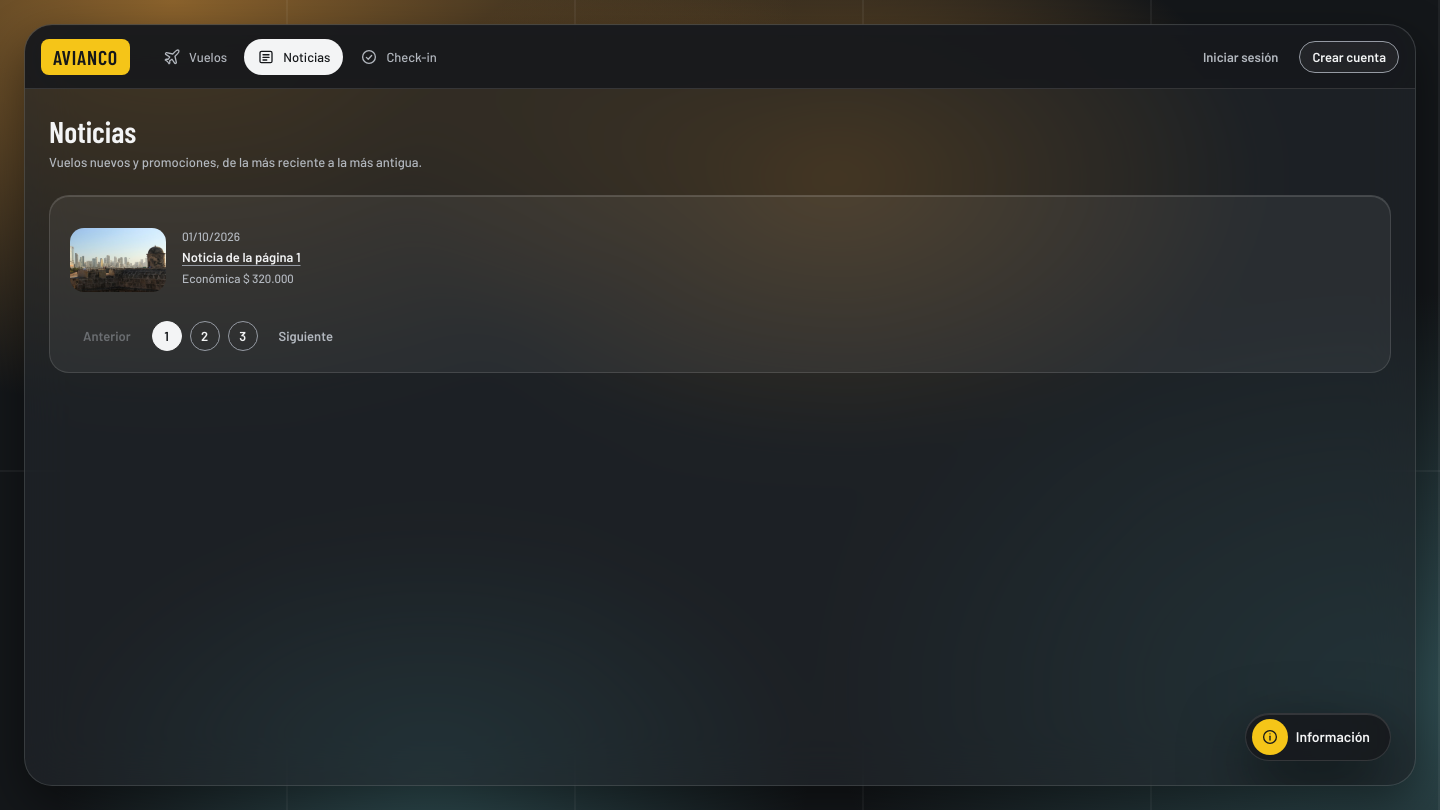
Test: Todas las noticias (HU-19) › pagina con ?pagina= y pide la página elegida al servidor
Expected: the link "Noticia de la página 1" is shown, [182,248,301,266]
Expected: the button "Anterior" is disabled, [70,320,144,352]
What coordinates should you click on to do the following:
click the button "Siguiente"
I would click on:
 (306, 336)
Its box is [266,320,346,352].
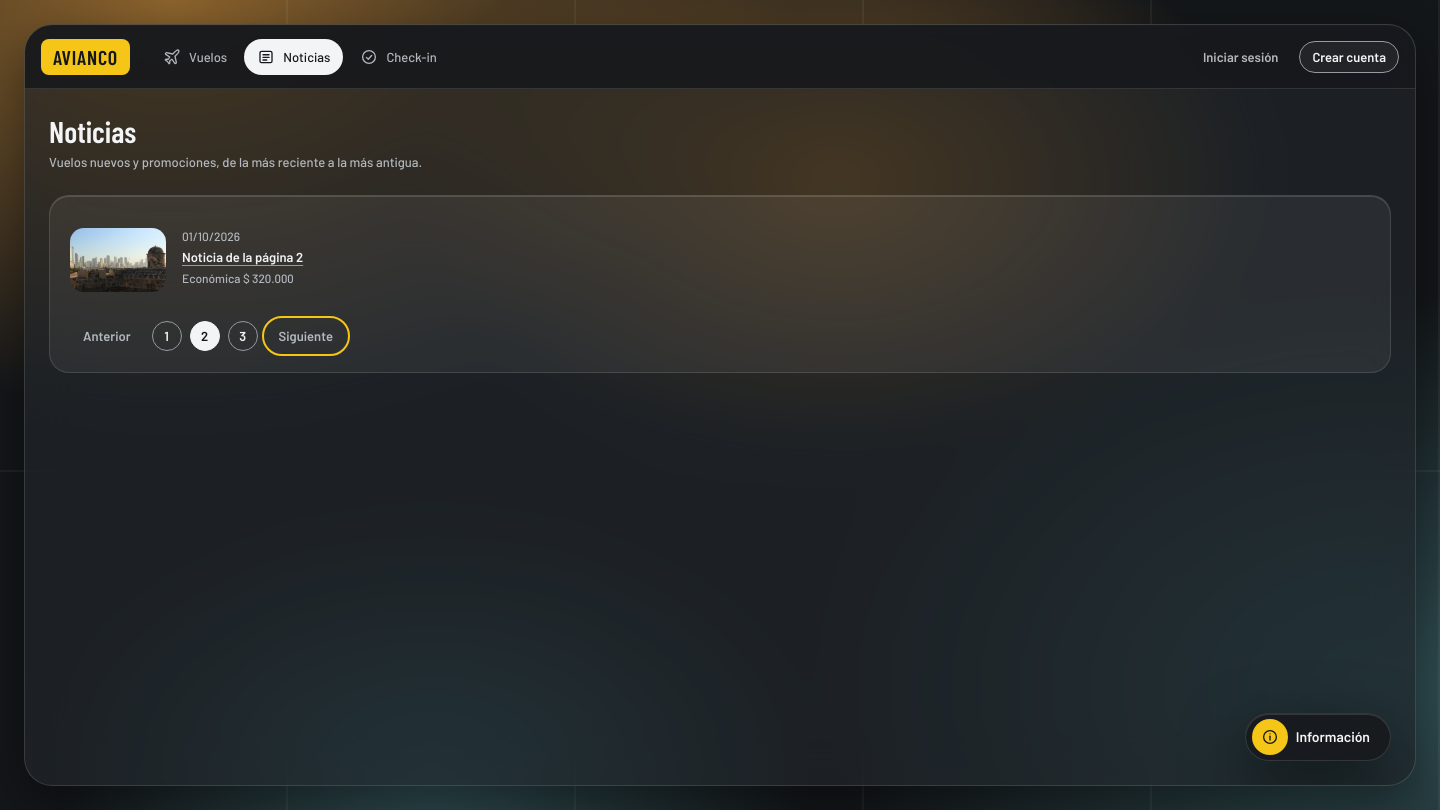
Expected: the link "Noticia de la página 2" is shown, [182,248,303,266]
What coordinates should you click on to do the following:
click the button named "Página 3"
I would click on:
 (243, 336)
Its box is [228,321,258,351].
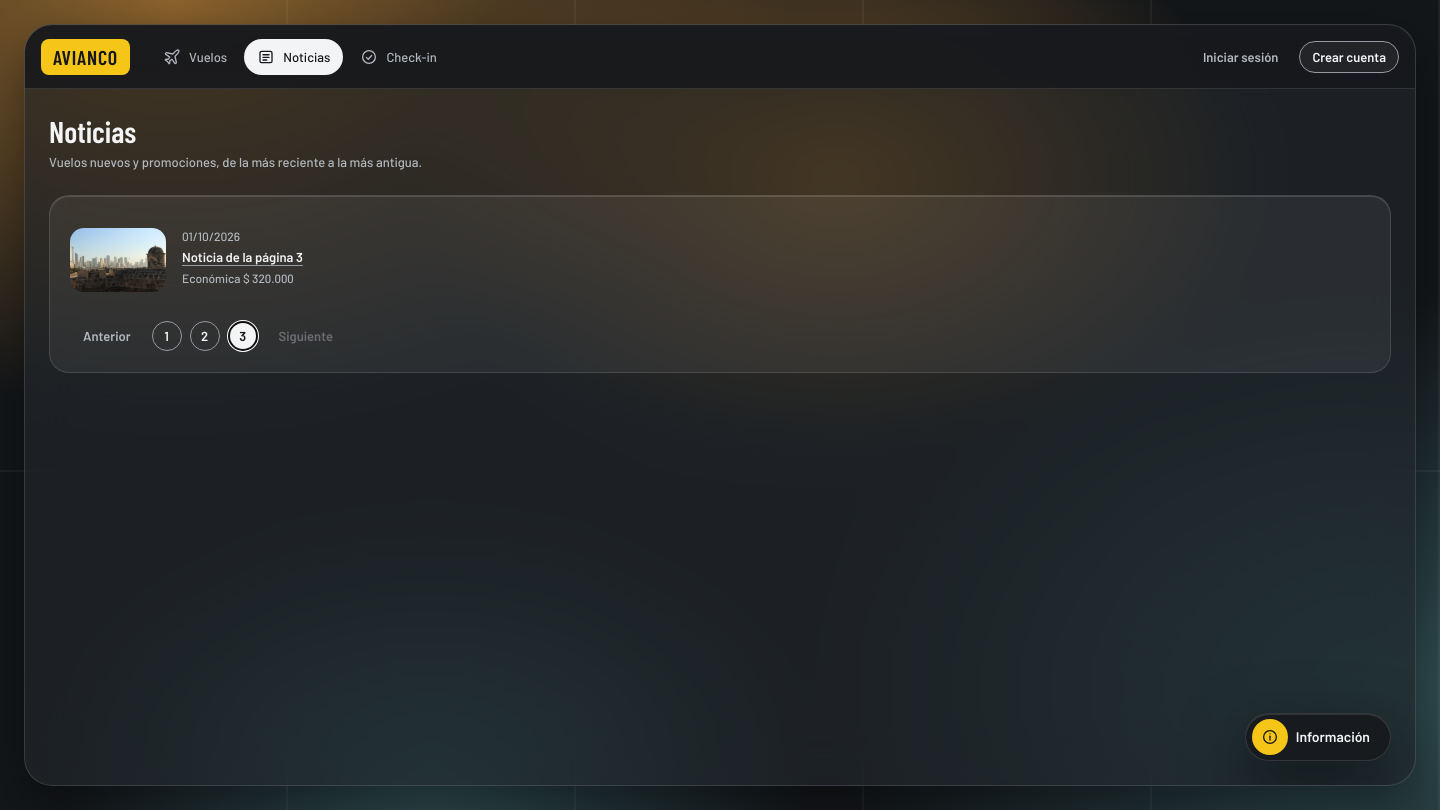
Expected: the link "Noticia de la página 3" is shown, [182,248,303,266]
Expected: the button "Siguiente" is disabled, [266,320,346,352]
